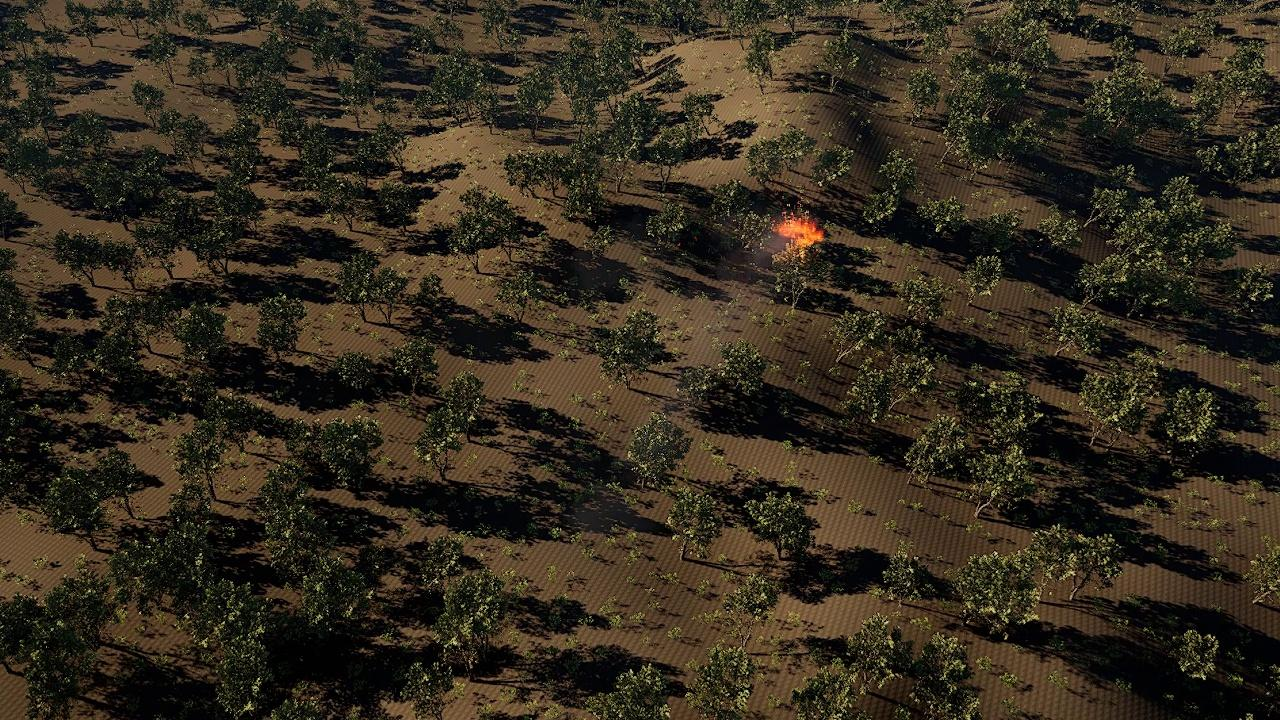fire: (776, 217, 823, 251)
smoke: (723, 227, 791, 270)
